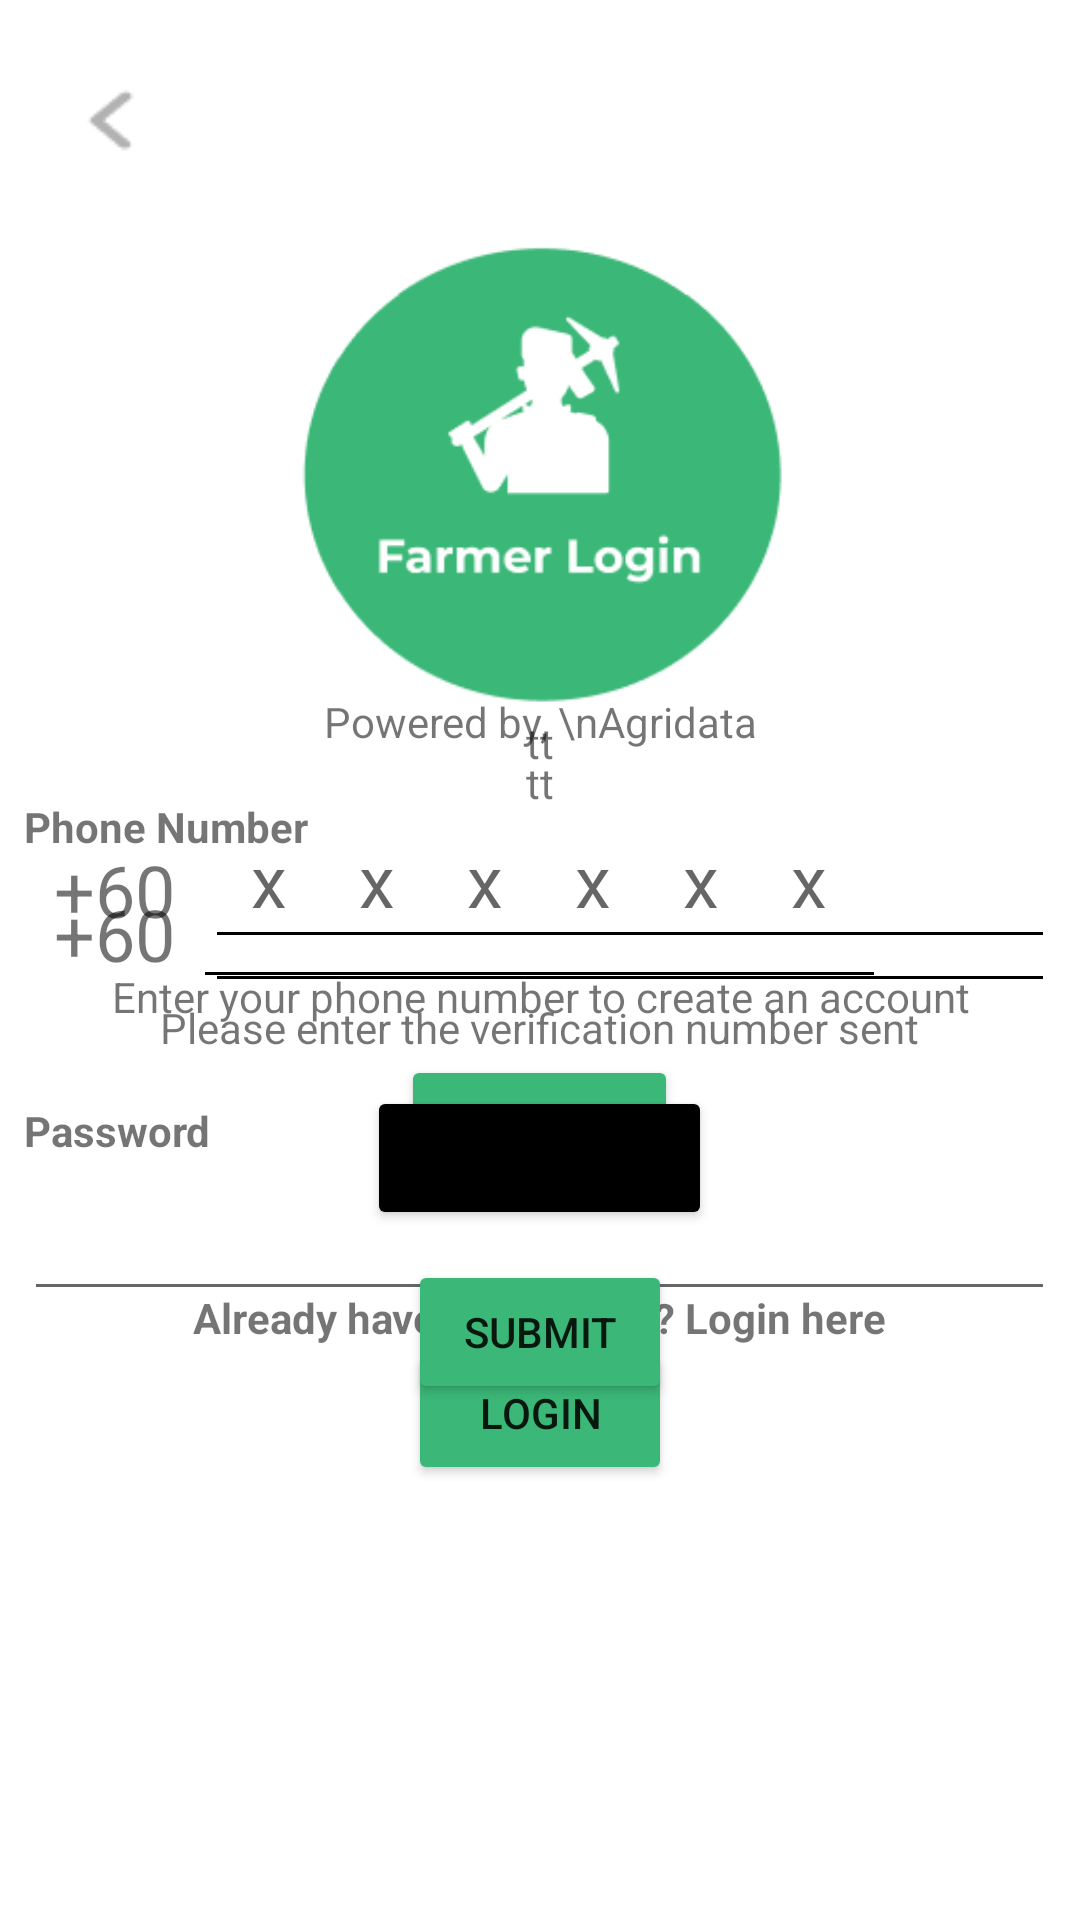

Icon click points for this 1080 × 1920 phone screenshot, format [x,y]:
back: [111,120]
